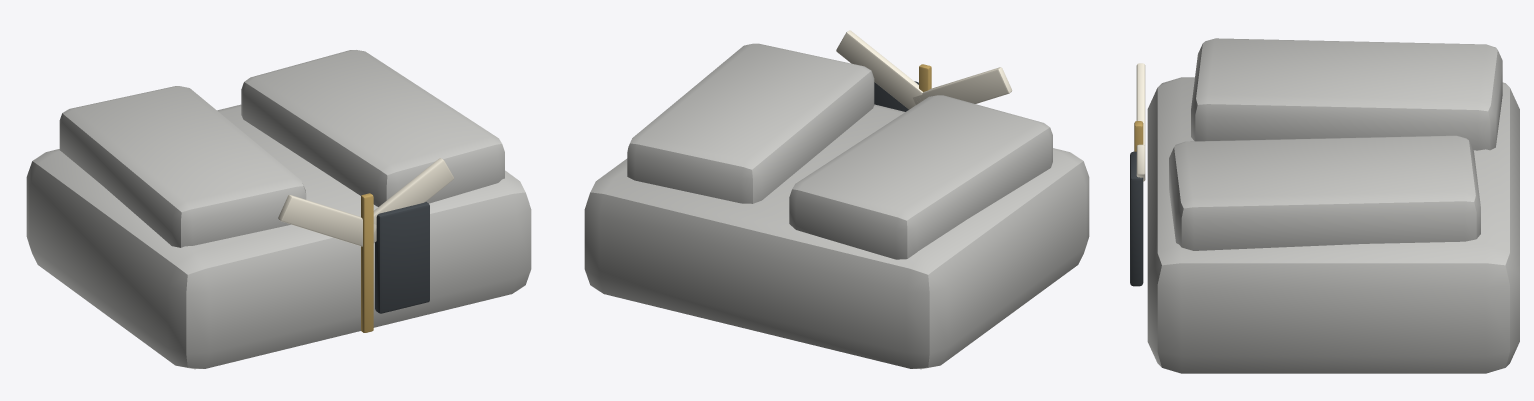
File: checkout_product_folded_jacket.glb
3 views of the same model, side by side, from view 1: azimuth 30°, elevation 25°; view 2: azimuth 150°, elevation 25°; view 3: azimuth 270°, elevation 25° (orthographic). The views are drawn at different scales.
Parts seen in each view (by area): view 1: FoldedBody, FoldedSleeveLeft, FoldedSleeveRight, JacketStormFlap, FoldedCollarLeft, FoldedCollarRight, JacketZip; view 2: FoldedBody, FoldedSleeveLeft, FoldedSleeveRight, FoldedCollarRight, FoldedCollarLeft, JacketStormFlap; view 3: FoldedBody, FoldedSleeveRight, FoldedSleeveLeft, JacketStormFlap, FoldedCollarLeft, FoldedCollarRight.
Part boxes in pixels (left/top/right/bottom): FoldedBody: left=26, top=104, right=531, bottom=369; FoldedSleeveLeft: left=59, top=86, right=306, bottom=247; FoldedSleeveRight: left=241, top=50, right=504, bottom=206; JacketStormFlap: left=375, top=202, right=429, bottom=313; FoldedCollarLeft: left=278, top=195, right=376, bottom=246; FoldedCollarRight: left=362, top=158, right=453, bottom=242; JacketZip: left=361, top=193, right=373, bottom=332; FoldedBody: left=584, top=104, right=1089, bottom=369; FoldedSleeveLeft: left=789, top=95, right=1052, bottom=259; FoldedSleeveRight: left=627, top=43, right=874, bottom=203; FoldedCollarRight: left=836, top=30, right=922, bottom=109; FoldedCollarLeft: left=913, top=67, right=1012, bottom=104; JacketStormFlap: left=874, top=81, right=918, bottom=111; FoldedBody: left=1147, top=77, right=1519, bottom=373; FoldedSleeveRight: left=1169, top=135, right=1480, bottom=250; FoldedSleeveLeft: left=1191, top=38, right=1502, bottom=150; JacketStormFlap: left=1130, top=151, right=1143, bottom=286; FoldedCollarLeft: left=1136, top=63, right=1145, bottom=145; FoldedCollarRight: left=1136, top=144, right=1145, bottom=181.
Bounding box in the file's own units: 0.21 × 0.0934 × 0.178.
